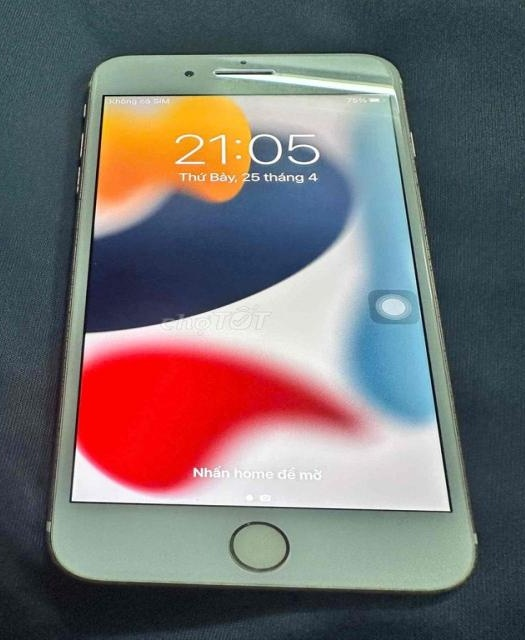scratch: (402, 151, 446, 334), (437, 340, 474, 515), (62, 197, 84, 360), (50, 359, 67, 488), (381, 71, 417, 115), (80, 69, 91, 195)
